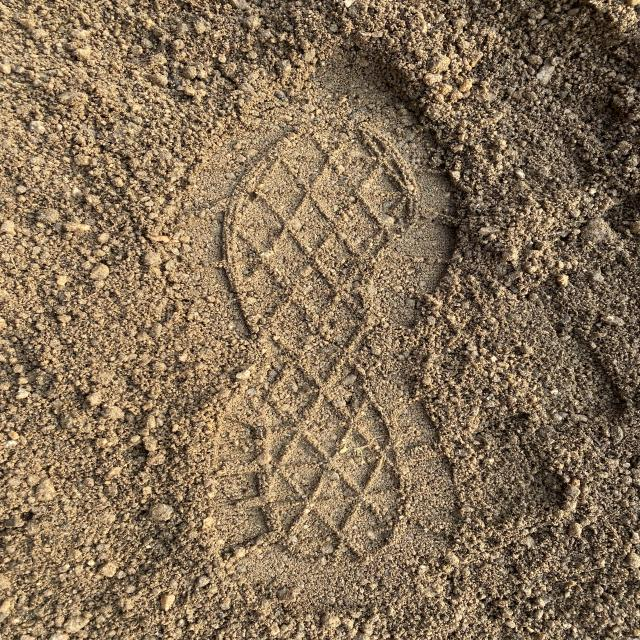human_footprint: (98, 36, 532, 620)
